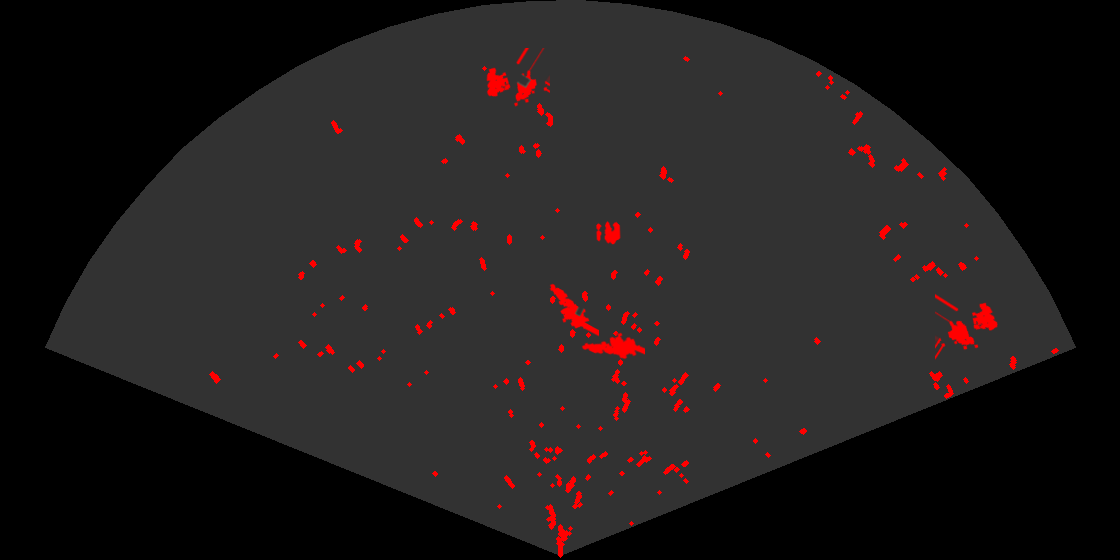ball: (595, 219, 622, 246)
cage: (935, 292, 999, 361), (485, 48, 550, 108)
frogman: (548, 282, 599, 338), (580, 331, 645, 361)
